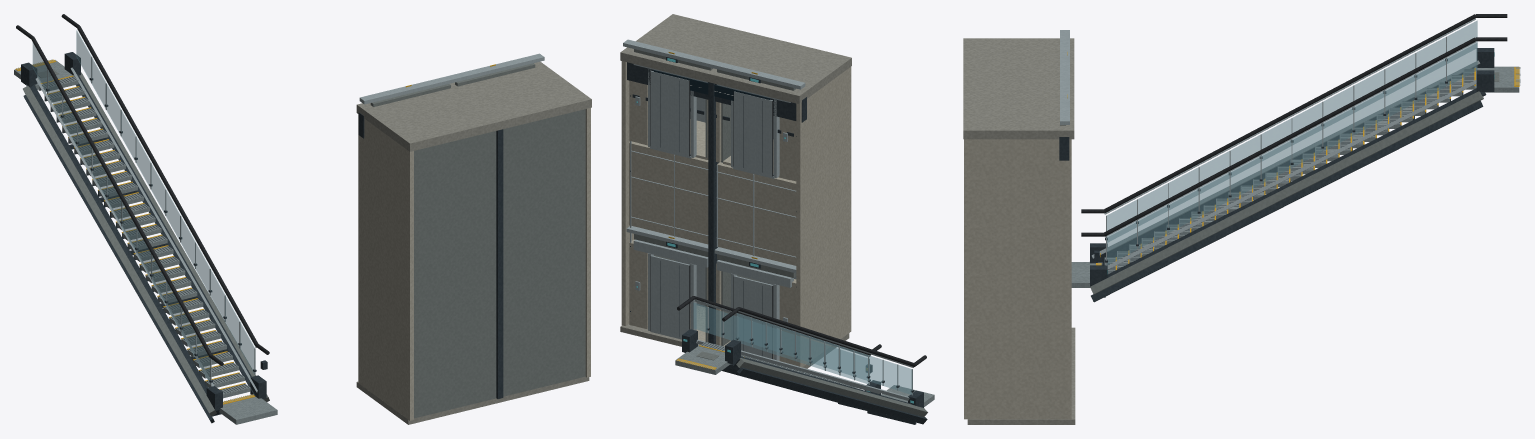
3 renders of one model, left to right at view 1: azimuth 30°, elevation 25°; view 2: azimuth 150°, elevation 25°; view 3: azimuth 270°, elevation 25°, orthographic. The views are drawn at different scales.
Parts seen in each view (by area): view 1: Lifts_VIS_Shaft_Back__painted_metal, Lifts_VIS_Shaft_Left_Wall__warm_stone, Lifts_VIS_Shaft_Roof__concrete, Escalator_VIS_Balustrade_Glass__glass, Escalator_VIS_Step_Treads__step_metal, Escalator_VIS_Side_Fascia__painted_metal, Escalator_VIS_Inclined_Stringer__dark_steel, Escalator_VIS_Rubber_Handrail__rubber, Escalator_VIS_Side_Skirting__stainless, Lifts_VIS_Shaft_Divider__dark_steel, Escalator_GROOVE_Tread_Channels__dark_steel, Lifts_VIS_Shaft_Right_Wall__warm_stone (+9 smaller); view 2: Lifts_VIS_Shaft_Left_Wall__warm_stone, Lifts_VIS_Front_Middle_Wall__warm_stone, Lifts_VIS_Door_Closed__stainless, Lifts_VIS_Shaft_Roof__concrete, Escalator_VIS_Balustrade_Glass__glass, Lifts_VIS_Front_Spandrils__warm_stone, Lifts_VIS_Level_Cornice__stainless, Lifts_VIS_Door_Jamb__stainless, Lifts_VIS_Shaft_Right_Wall__warm_stone, Lifts_VIS_Shaft_Divider__dark_steel, Lifts_VIS_Door_Header__stainless, Escalator_VIS_Side_Fascia__painted_metal (+21 smaller); view 3: Lifts_VIS_Shaft_Right_Wall__warm_stone, Escalator_VIS_Balustrade_Glass__glass, Lifts_VIS_Shaft_Roof__concrete, Escalator_VIS_Step_Treads__step_metal, Escalator_VIS_Rubber_Handrail__rubber, Escalator_VIS_Side_Fascia__painted_metal, Escalator_VIS_Side_Skirting__stainless, Escalator_VIS_Fascia_Bottom__dark_steel, Escalator_VIS_Inclined_Stringer__dark_steel, Escalator_GROOVE_Tread_Channels__dark_steel, Escalator_DETAIL_Tread_Ridges__stainless, Escalator_VIS_Handrail_Carrier__stainless (+6 smaller).
Part boxes in pixels (x1,y1,x2,y2): Lifts_VIS_Shaft_Back__painted_metal: (414,109,585,418); Lifts_VIS_Shaft_Left_Wall__warm_stone: (358,114,413,420); Lifts_VIS_Shaft_Roof__concrete: (356,61,591,151); Escalator_VIS_Balustrade_Glass__glass: (32,30,254,383); Escalator_VIS_Step_Treads__step_metal: (39,76,250,398); Escalator_VIS_Side_Fascia__painted_metal: (23,72,269,415); Escalator_VIS_Inclined_Stringer__dark_steel: (26,74,263,415); Escalator_VIS_Rubber_Handrail__rubber: (16,14,269,365); Escalator_VIS_Side_Skirting__stainless: (35,67,257,392); Lifts_VIS_Shaft_Divider__dark_steel: (496,129,503,398); Escalator_GROOVE_Tread_Channels__dark_steel: (42,77,248,393); Lifts_VIS_Shaft_Right_Wall__warm_stone: (585,108,590,377); Lifts_VIS_Shaft_Left_Wall__warm_stone: (796,67,851,367); Lifts_VIS_Front_Middle_Wall__warm_stone: (629,141,796,265); Lifts_VIS_Door_Closed__stainless: (651,70,773,358); Lifts_VIS_Shaft_Roof__concrete: (620,14,851,104); Escalator_VIS_Balustrade_Glass__glass: (693,302,912,394); Lifts_VIS_Front_Spandrils__warm_stone: (629,80,796,365); Lifts_VIS_Level_Cornice__stainless: (623,39,805,273); Lifts_VIS_Door_Jamb__stainless: (648,69,779,360); Lifts_VIS_Shaft_Right_Wall__warm_stone: (621,61,634,325); Lifts_VIS_Shaft_Divider__dark_steel: (708,82,722,344); Lifts_VIS_Door_Header__stainless: (633,64,793,287); Escalator_VIS_Side_Fascia__painted_metal: (736,358,927,416); Lifts_VIS_Shaft_Right_Wall__warm_stone: (964,139,1071,419); Escalator_VIS_Balustrade_Glass__glass: (1107,20,1477,264); Lifts_VIS_Shaft_Roof__concrete: (963,38,1074,139); Escalator_VIS_Step_Treads__step_metal: (1104,68,1474,273); Escalator_VIS_Rubber_Handrail__rubber: (1081,14,1507,236); Escalator_VIS_Side_Fascia__painted_metal: (1090,66,1483,294); Escalator_VIS_Side_Skirting__stainless: (1091,60,1480,269); Escalator_VIS_Fascia_Bottom__dark_steel: (1091,100,1483,302); Escalator_VIS_Inclined_Stringer__dark_steel: (1089,66,1486,283); Escalator_GROOVE_Tread_Channels__dark_steel: (1107,69,1473,273); Escalator_DETAIL_Tread_Ridges__stainless: (1107,69,1473,271); Escalator_VIS_Handrail_Carrier__stainless: (1104,18,1475,237).
Size of the model in its own units: 9.68 by 8.71 by 13.97.
Materials: 11 (11 with a texture image).
